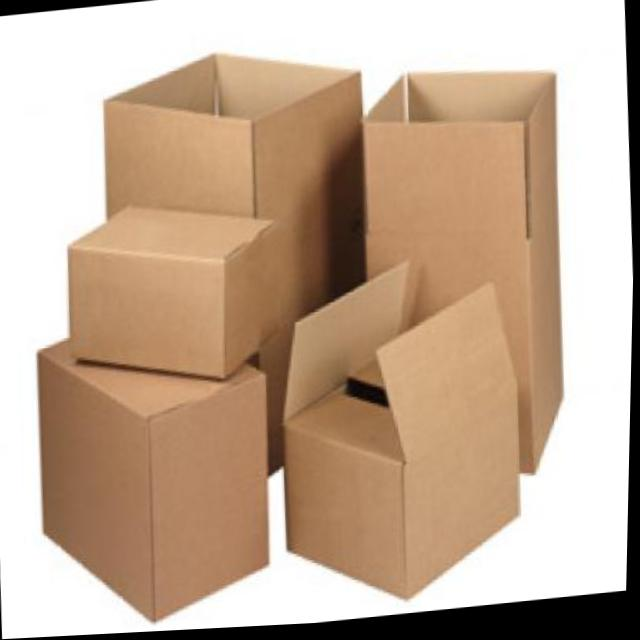box: (342, 43, 620, 509), (90, 35, 383, 367), (265, 281, 542, 629), (16, 314, 298, 639), (45, 192, 300, 422)
